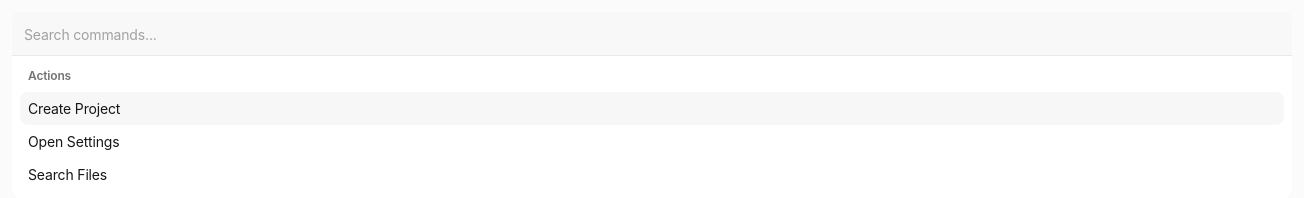
Test: CommandPalette › interaction › filters items when typing
The image size is (1304, 198).
Type "settings" into the dropdown with placeholder "Search commands..." at (652, 34), box x1=12 y1=12 x2=1292 y2=56
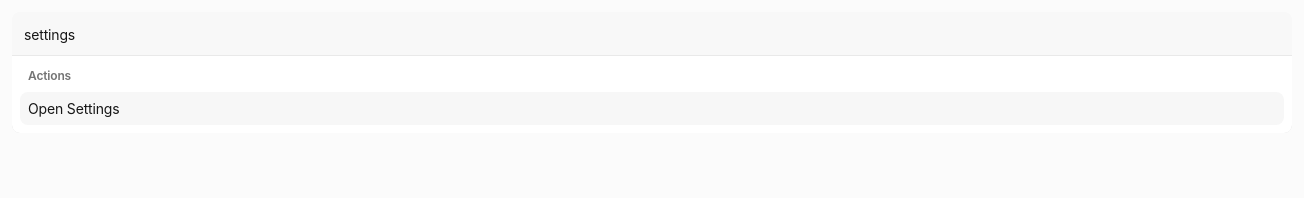
Expected: the text "Open Settings" is shown, x1=28 y1=98 x2=120 y2=119
Expected: the option "Create Project" is gone
